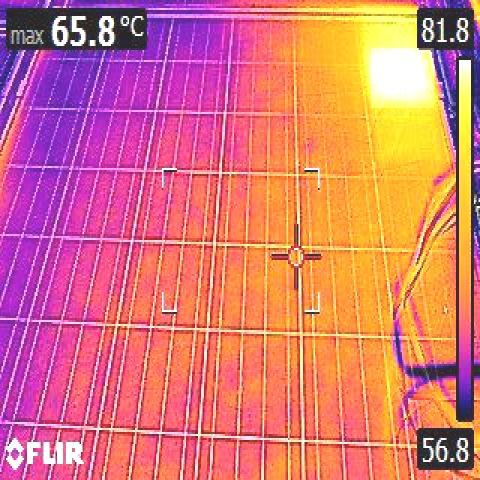fault: (371, 48, 434, 108)
